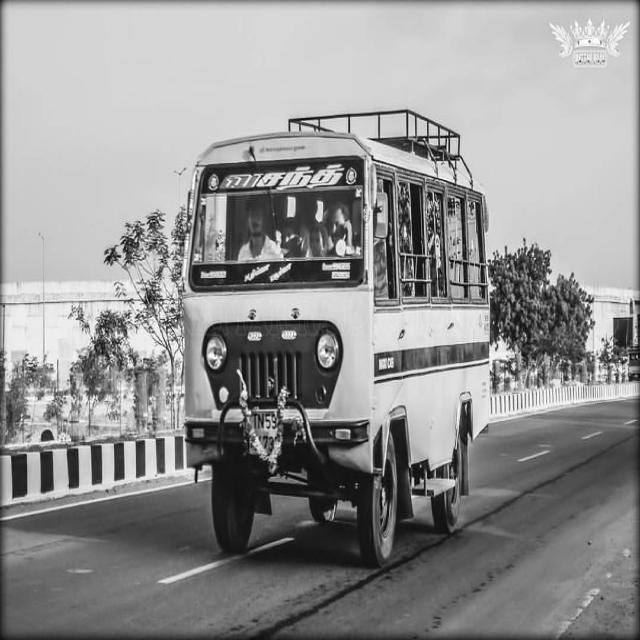Bus: (178, 108, 498, 570)
